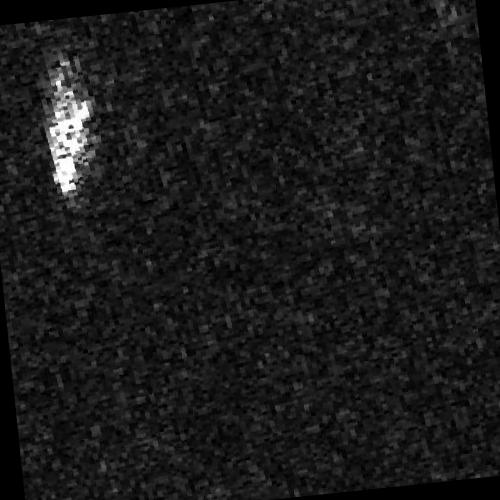ship: (46, 66, 93, 195)
